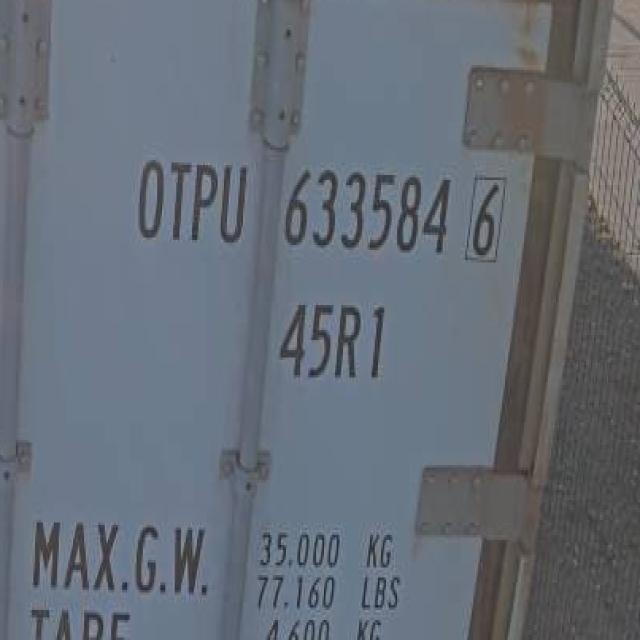dv: (461, 167, 508, 272)
owner: (132, 151, 254, 251)
serial: (282, 158, 452, 270)
size: (272, 290, 402, 390)
